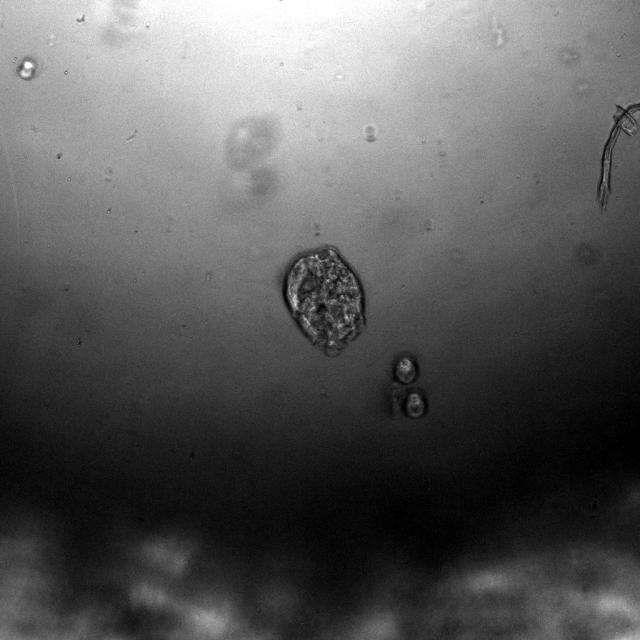organoid: (285, 247, 365, 355), (394, 357, 417, 384), (404, 390, 426, 418), (16, 57, 38, 80)
